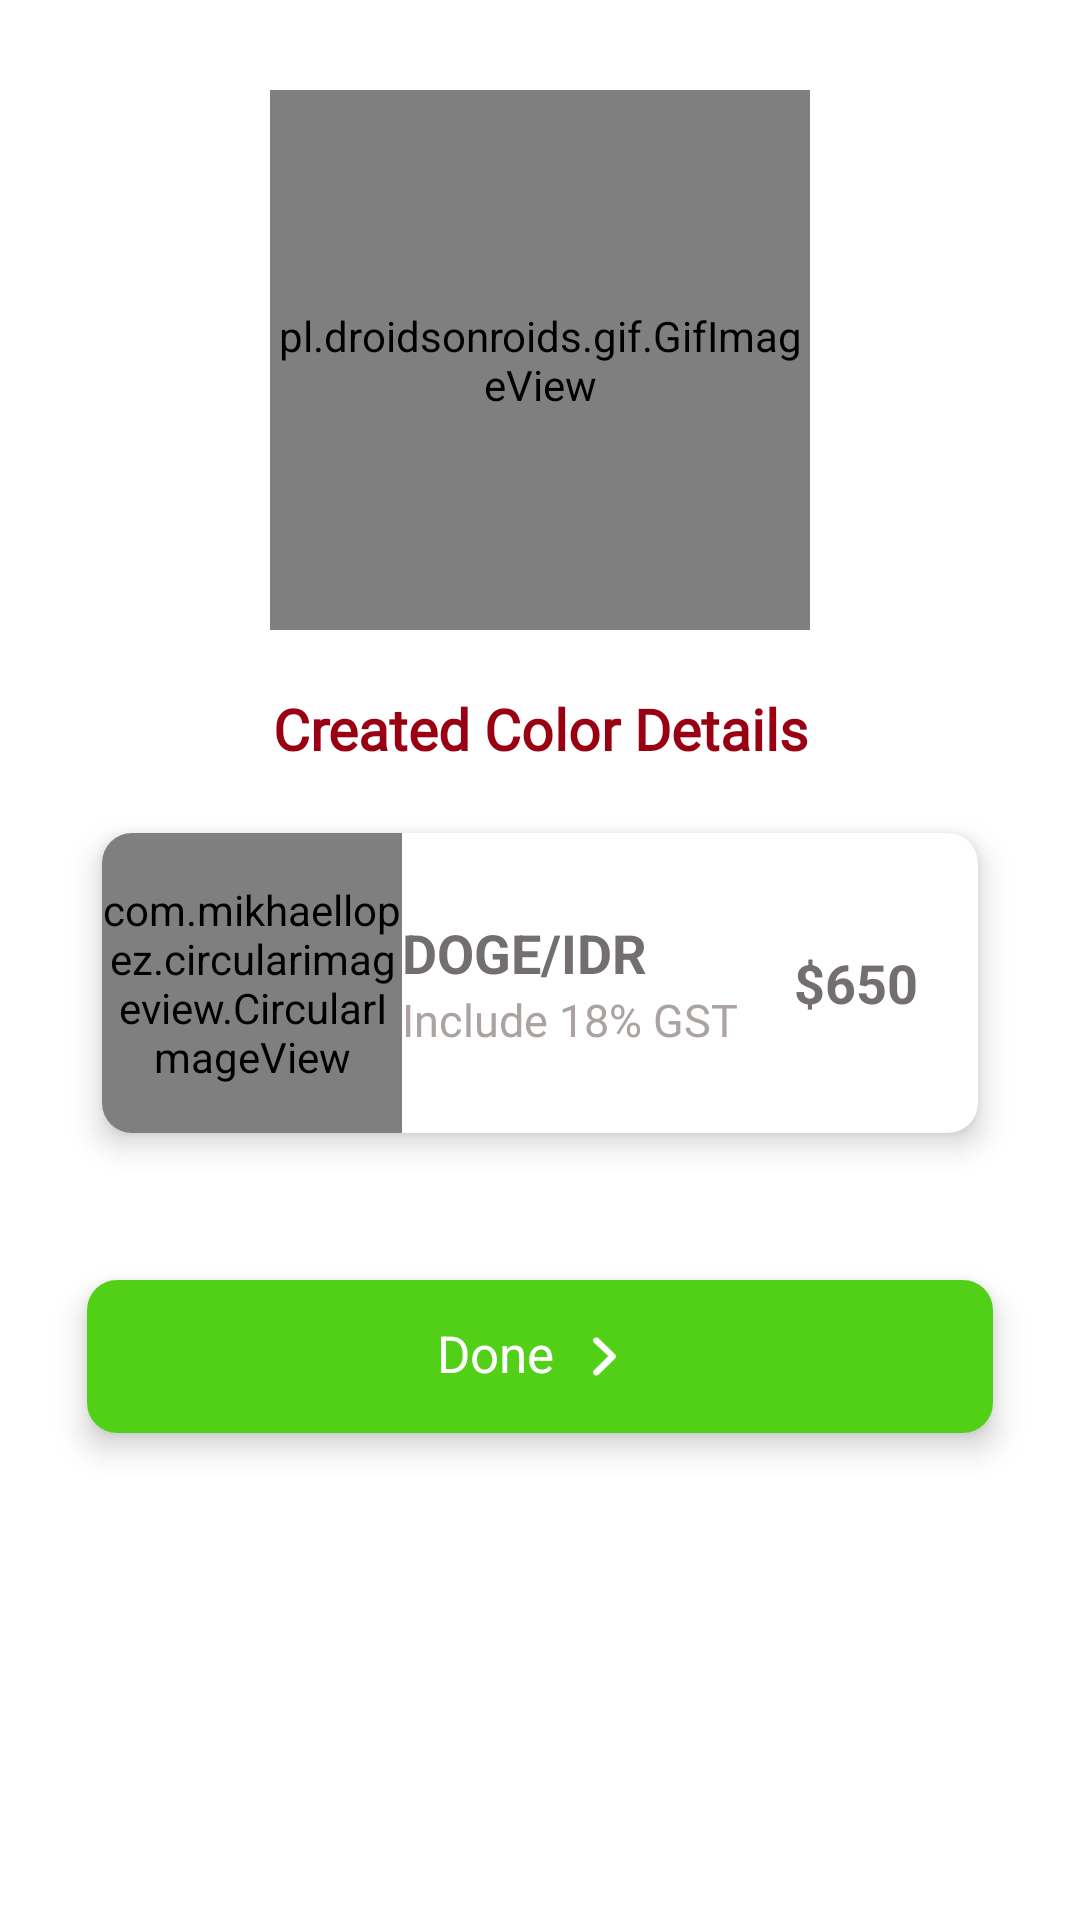

Icon bounding boxes for this 1080*1920 phone screenshot, format rect(x1, y1, x2, y2):
right arrow: rect(593, 1337, 616, 1376)
